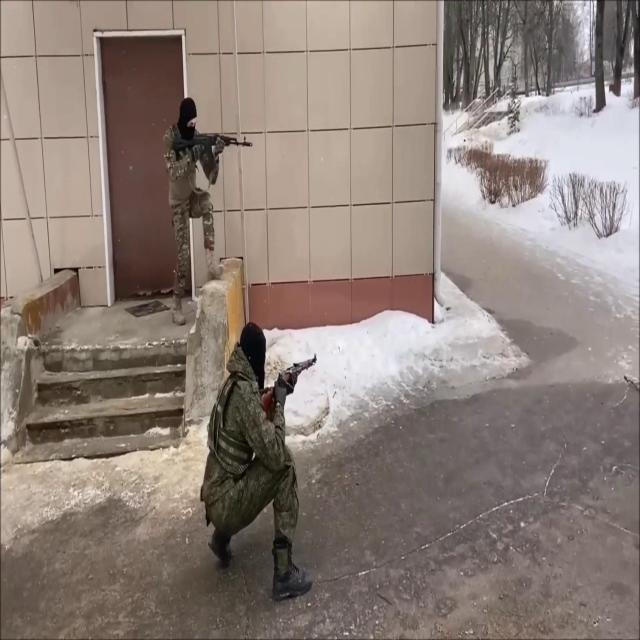gun: (202, 320, 323, 600), (165, 96, 255, 324), (258, 351, 320, 426), (173, 128, 255, 170)
